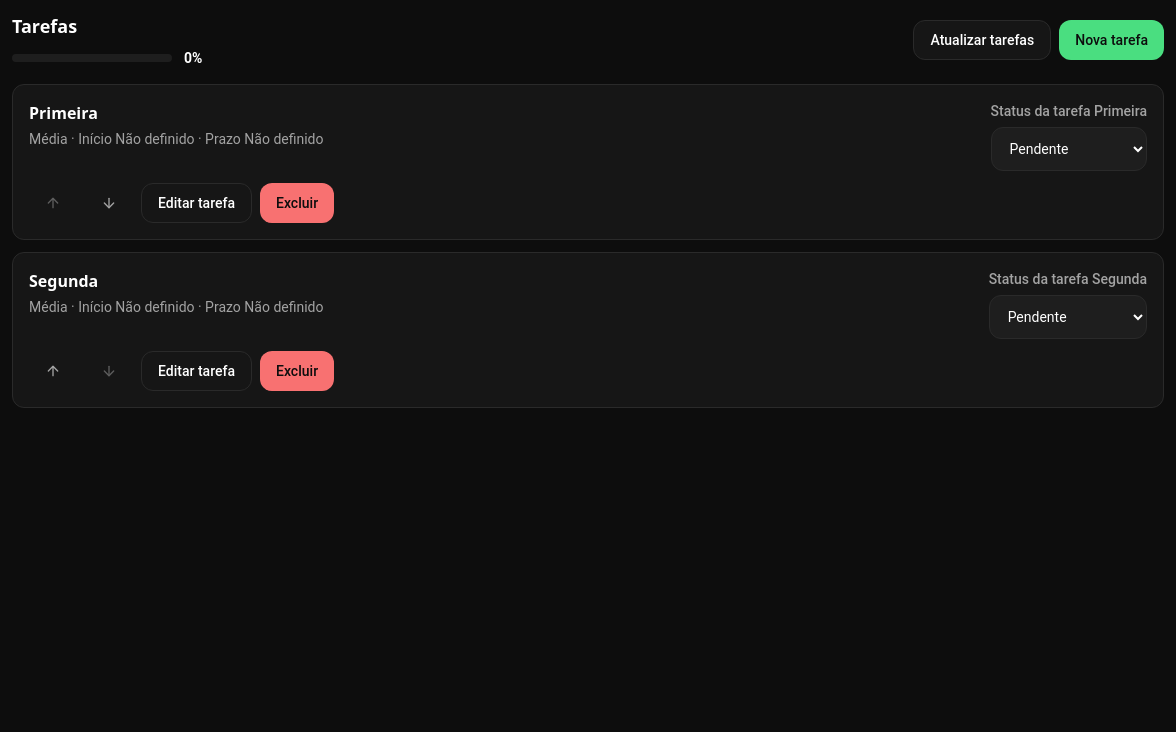
Test: ProjectTaskList › preserva reordenação confirmada quando o refresh falha
Click the button named "Mover tarefa Primeira para baixo".
click(109, 203)  # box [85,183,133,223]
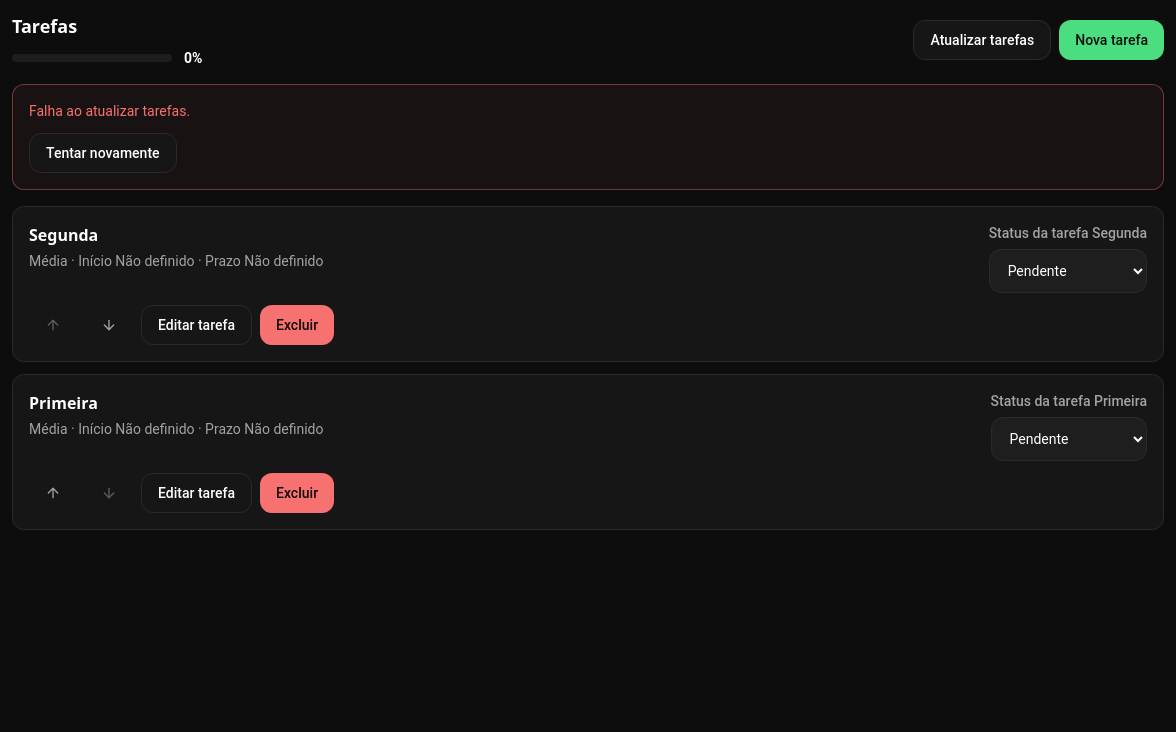
Now the text "Falha ao atualizar tarefas." is shown, box [29,103,190,119]
Now the headings read "Segunda", "Primeira", in this order, box [29,224,98,246]; [29,392,98,414]
